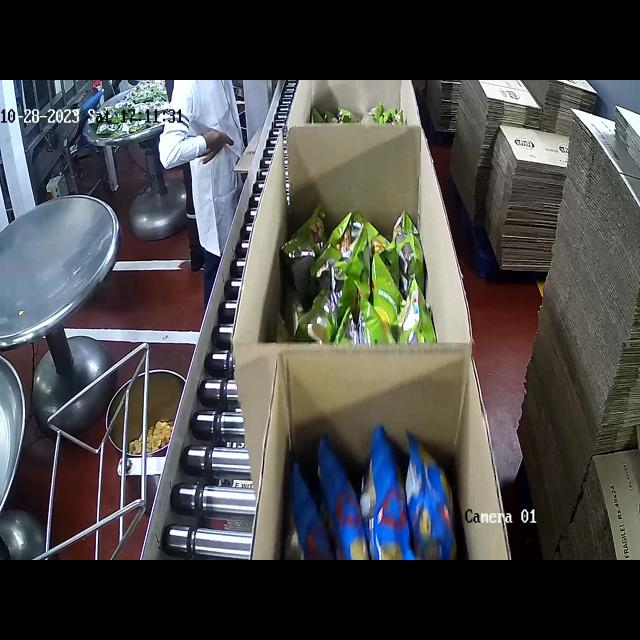paprika: (269, 414, 464, 560)
yogurt: (287, 205, 432, 354), (311, 100, 410, 134)
